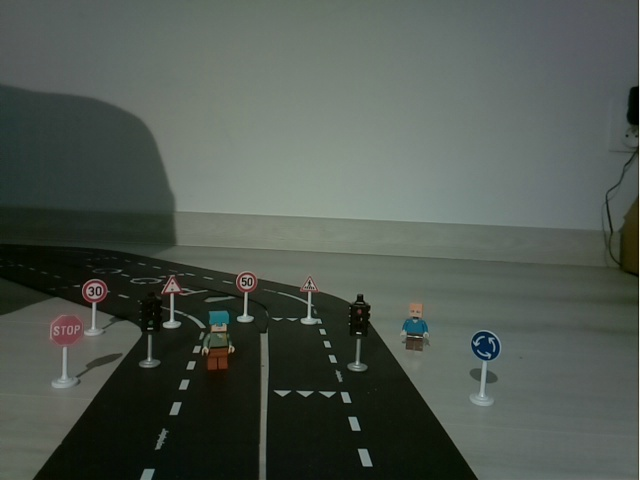green light: (136, 291, 160, 373)
limit 30: (82, 278, 105, 337)
limit 50: (234, 269, 260, 325)
pedestrian sign: (298, 273, 322, 330)
person: (402, 302, 430, 355)
red light: (346, 294, 373, 375)
round: (468, 329, 500, 407)
second person: (196, 308, 236, 375)
stop: (50, 314, 83, 390)
traffic light sign: (163, 276, 185, 330)
